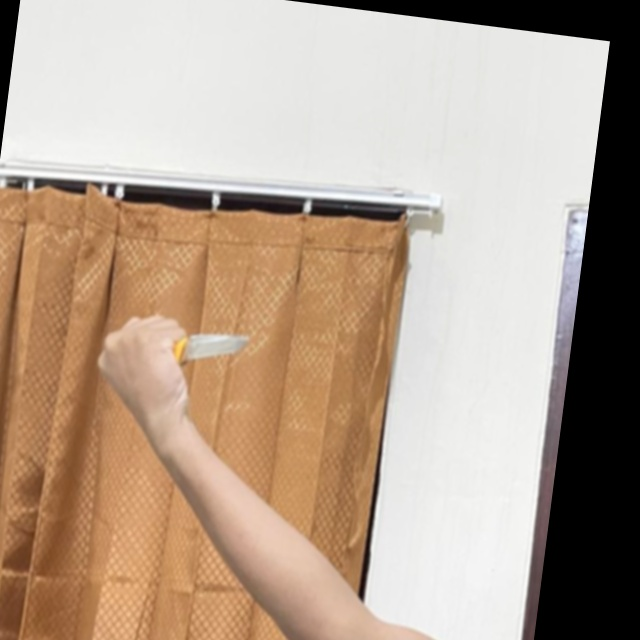Sharp-Object: (162, 325, 251, 375)
